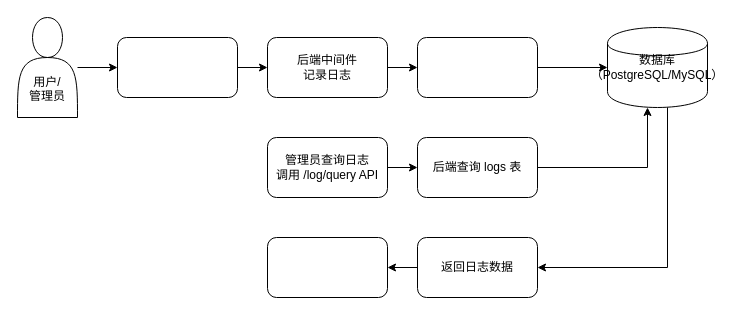
Image size: 741x315. Some labels were removed from this diagram. The centre of each missing label's shape, as x and y in pixels:
前端展示日志 （Vuetify 3 表格）: (327,267)
执行操作 （如登录、订单创建）: (177,67)
插入 logs 表: (477,67)
